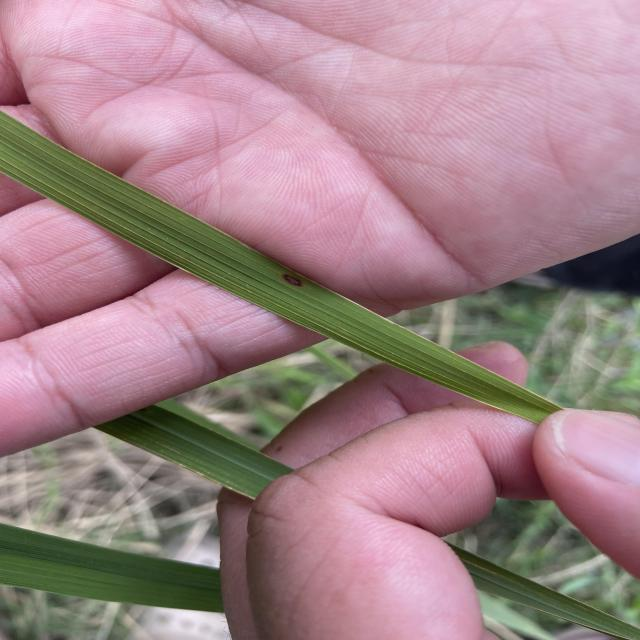Dao on: (283, 274, 302, 287)
